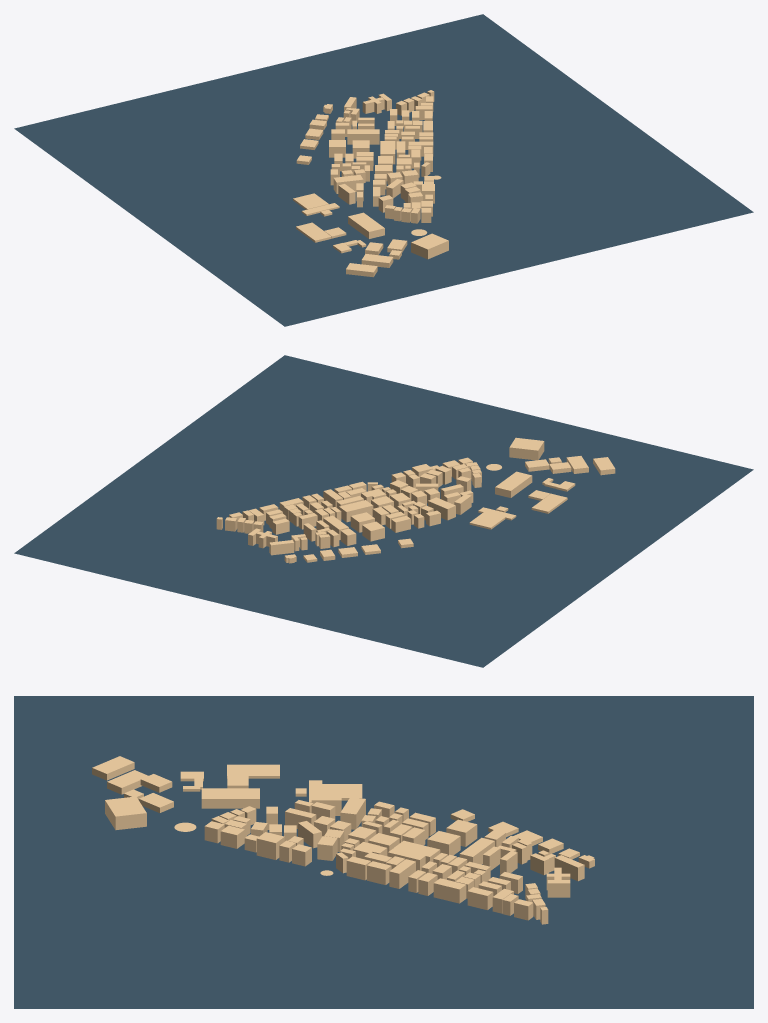
3 views of the same model, one above another, from view 1: azimuth 30°, elevation 25°; view 2: azimuth 150°, elevation 25°; view 3: azimuth 270°, elevation 25° (orthographic). The views are drawn at different scales.
Visible parts, largest first — view 1: Plane, pCube21, pCube14; view 2: Plane, pCube21, pCube14; view 3: Plane, pCube14, pCube21, pCube10, pCube86, pCube16, pCube34, pCube61, pCube45, pCube17, pCube7, pCube62 (+2 smaller).
Part boxes in pixels (x1,y1,x2,y2): Plane: [14, 14, 753, 326]; pCube21: [411, 233, 448, 259]; pCube14: [348, 212, 384, 238]; Plane: [14, 355, 753, 667]; pCube21: [509, 437, 544, 460]; pCube14: [495, 471, 532, 497]; Plane: [14, 696, 753, 1008]; pCube14: [201, 788, 259, 808]; pCube21: [105, 796, 146, 830]; pCube10: [227, 764, 279, 778]; pCube86: [433, 878, 466, 903]; pCube16: [92, 756, 134, 780]; pCube34: [256, 832, 284, 859]; pCube61: [427, 831, 460, 855]; pCube45: [340, 797, 365, 829]; pCube17: [107, 770, 148, 794]; pCube7: [322, 784, 362, 800]; pCube62: [446, 819, 477, 846].
Size of the model in its own units: 1092 by 32.35 by 1092.
